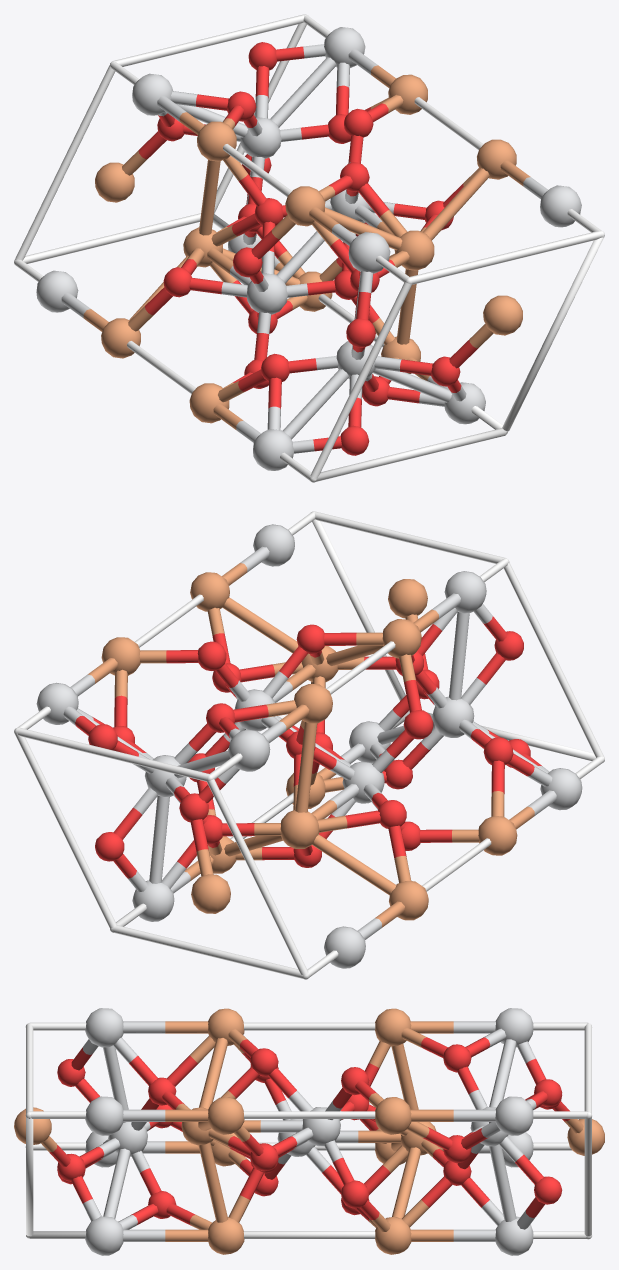
The model's file is ilmenita.fbx.
The picture shows the model from 3 angles, top to bottom: view 1: azimuth 30°, elevation 25°; view 2: azimuth 150°, elevation 25°; view 3: azimuth 270°, elevation 25°; orthographic projection. The views are drawn at different scales.
Visible parts, largest first — view 1: Ti, Fe.002, O.005, limites.001; view 2: Ti, Fe.002, O.005, limites.001; view 3: Ti, Fe.002, O.005, limites.001.
Part boxes in pixels (box(x1,y1,x2,y2)): Ti: box(36, 27, 581, 470); Fe.002: box(83, 65, 530, 429); O.005: box(138, 42, 478, 455); limites.001: box(14, 14, 604, 482); Ti: box(36, 524, 582, 968); Fe.002: box(88, 563, 534, 928); O.005: box(75, 616, 541, 878); limites.001: box(14, 511, 604, 979); Ti: box(83, 1008, 536, 1255); Fe.002: box(14, 1008, 604, 1254); O.005: box(49, 1037, 569, 1225); limites.001: box(25, 1022, 591, 1239).
Bounding box in the file's own units: 21.18 × 13.27 × 35.44.
